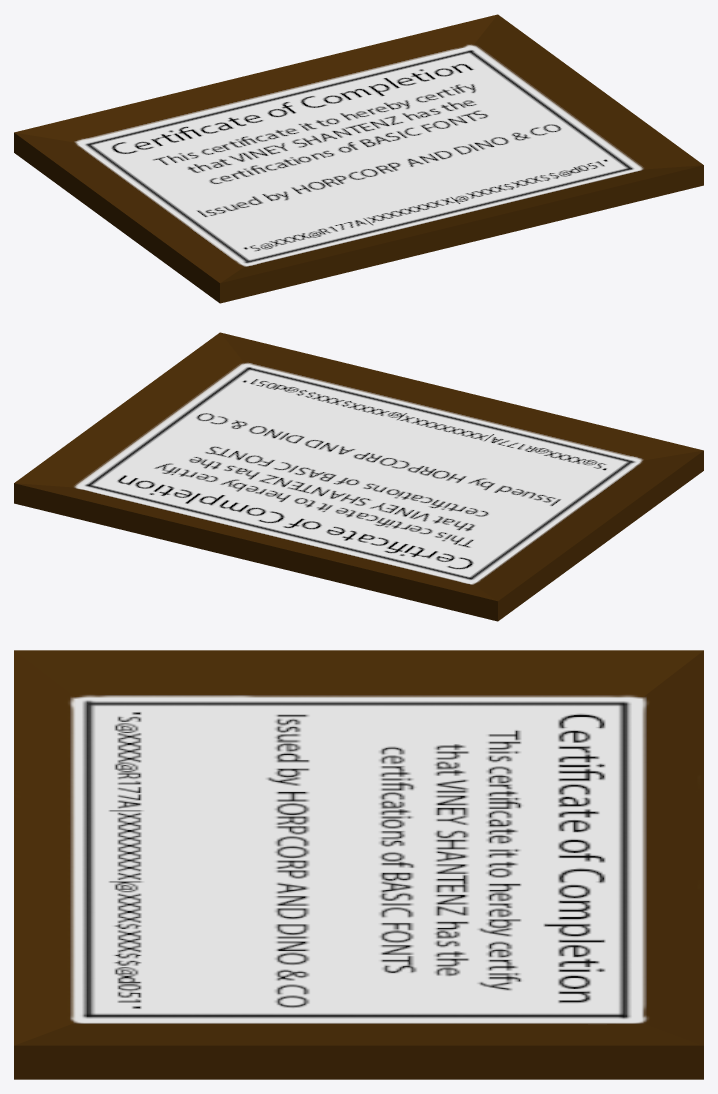
The model's file is Certificate_Model.fbx.
The picture shows the model from 3 angles, top to bottom: view 1: azimuth 30°, elevation 25°; view 2: azimuth 150°, elevation 25°; view 3: azimuth 270°, elevation 25°; orthographic projection. The views are drawn at different scales.
Visible parts, largest first — view 1: pCube15; view 2: pCube15; view 3: pCube15.
Part boxes in pixels (x1,y1,x2,y2): pCube15: (14,14,703,303); pCube15: (14,332,703,621); pCube15: (14,650,703,1079).
Size of the model in its own units: 0.0381 by 0.00153 by 0.0281.
